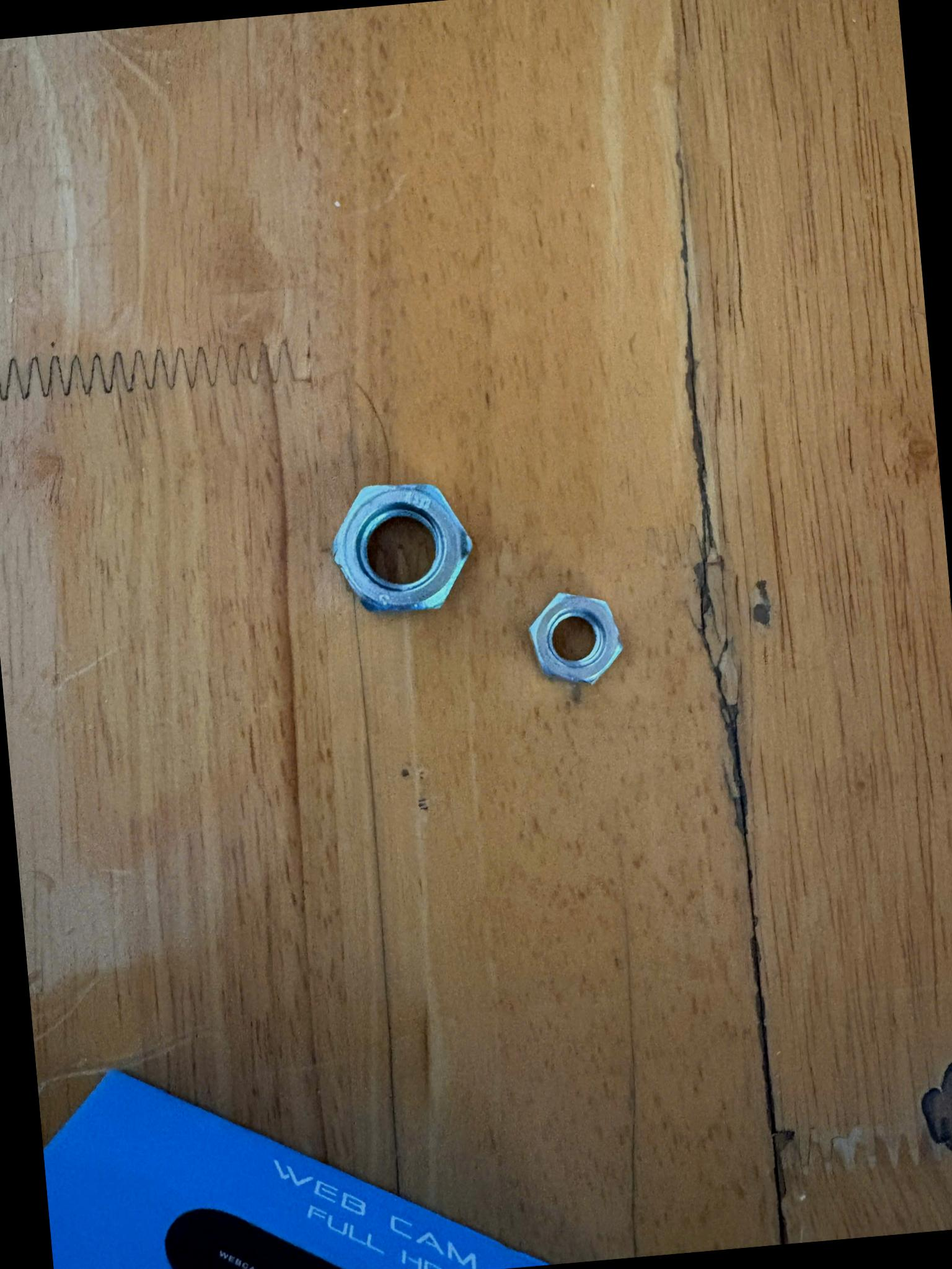nut: (323, 468, 487, 635), (525, 583, 626, 693)
